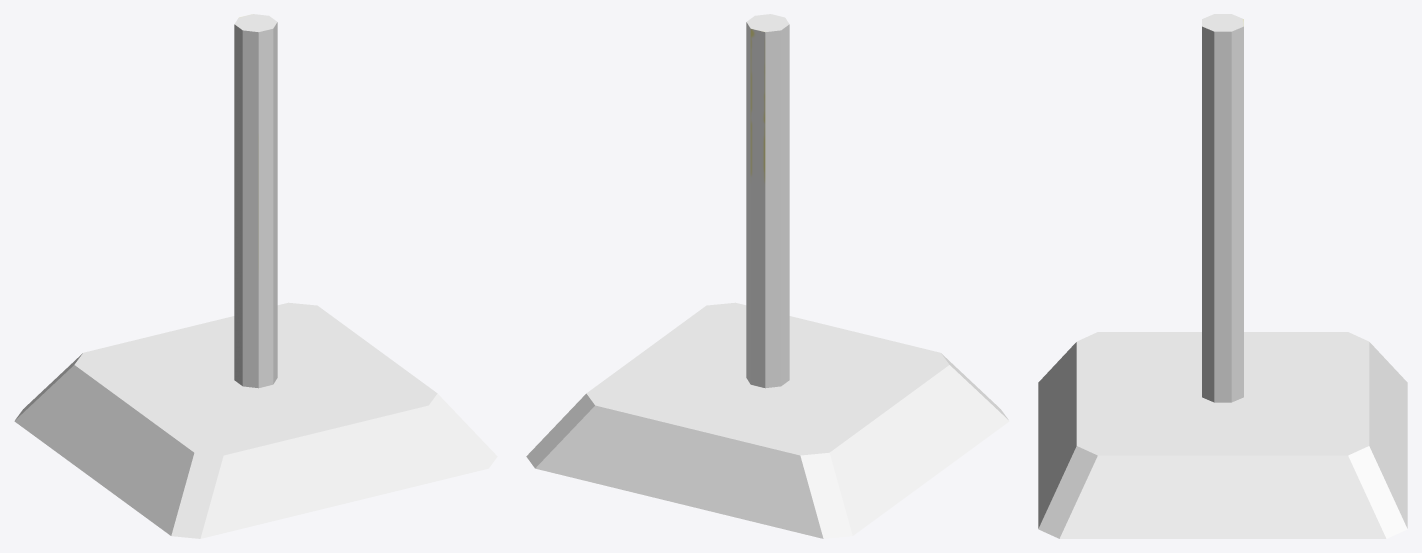
File: chandelier.fbx
3 views of the same model, side by side, from view 1: azimuth 30°, elevation 25°; view 2: azimuth 150°, elevation 25°; view 3: azimuth 270°, elevation 25° (orthographic). The views are drawn at different scales.
Visible parts, largest first — view 1: Cube; view 2: Cube; view 3: Cube.
Part boxes in pixels (x1,y1,x2,y2): Cube: (14, 14, 497, 538); Cube: (526, 14, 1009, 538); Cube: (1038, 14, 1407, 538).
Bounding box in the file's own units: 269 × 347 × 253.
